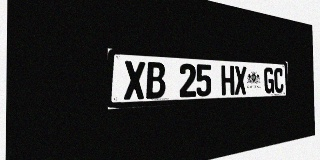2: (179, 63, 196, 97)
5: (196, 64, 211, 97)
B: (146, 62, 165, 99)
C: (274, 68, 284, 93)
G: (264, 67, 274, 94)
H: (221, 65, 234, 96)
X: (124, 61, 145, 100), (234, 66, 247, 95)
